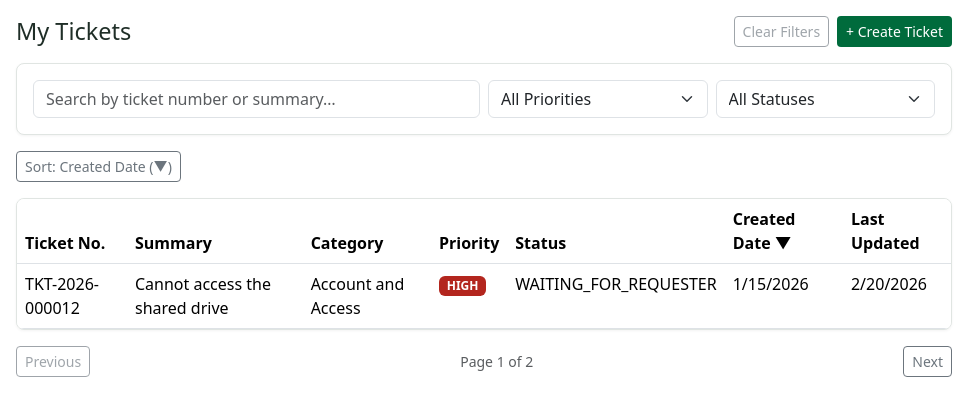
Test case: TicketsPlaceholder (My Tickets) › retains Previous/Next behavior and button presentation alongside cards
Expected: the button "Previous" is disabled, [16,346,90,377]
Click the button "Next": (928, 362) [903,346,952,377]
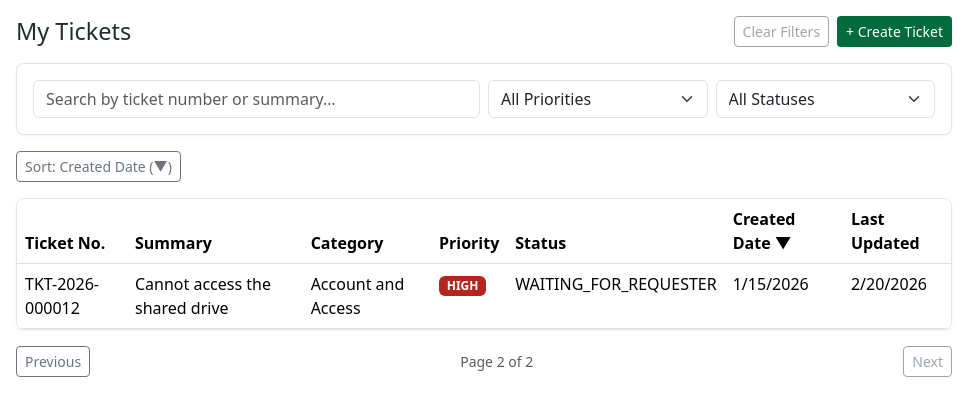
Expected: the text "Page 2 of 2" is shown, [460,351,533,372]
Expected: the button "Next" is disabled, [903,346,952,377]
Click the button "Previous": (53, 362) [16,346,90,377]
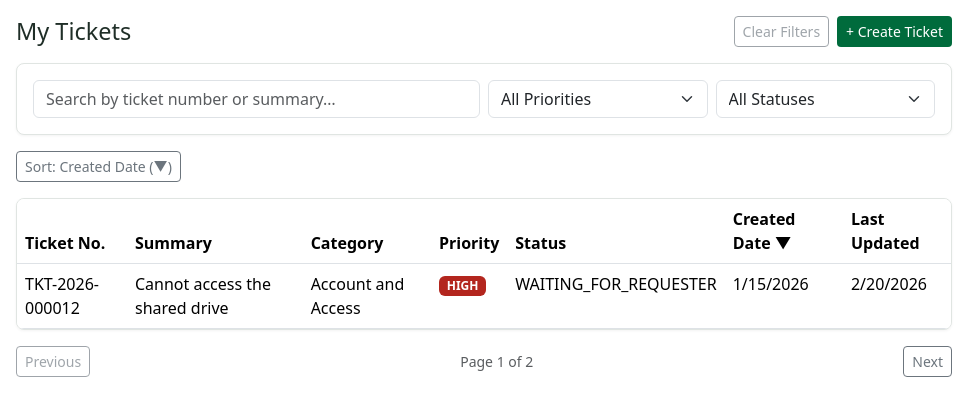
Expected: the text "Page 1 of 2" is shown, [460,351,533,372]
